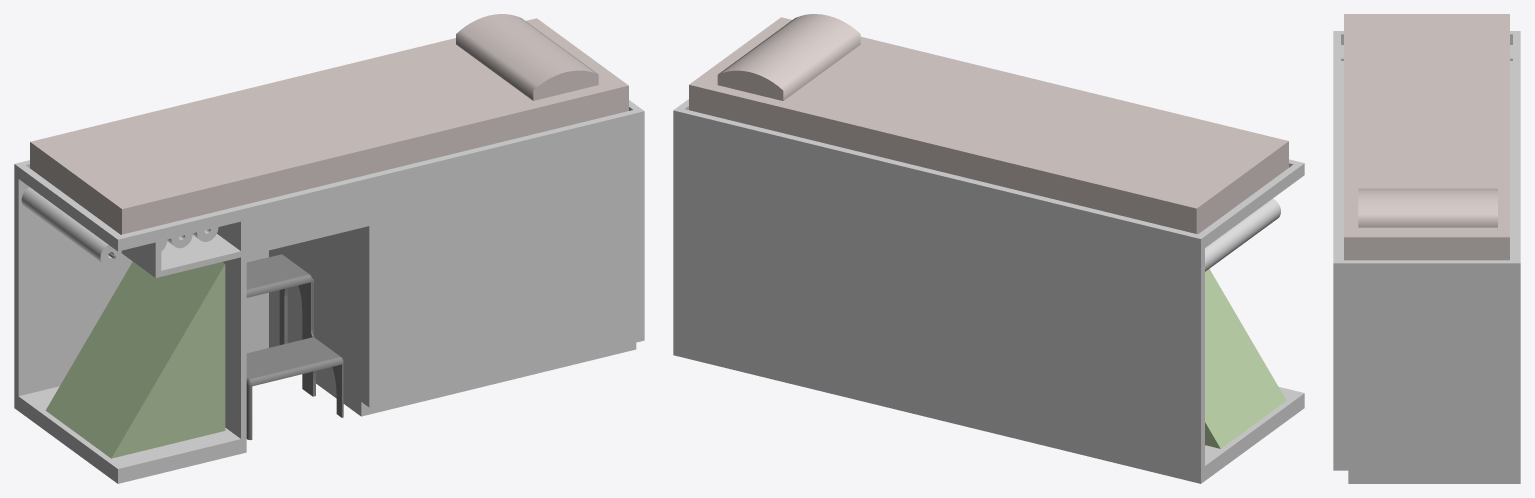
Rendered from Bed.fbx.
The picture shows the model from 3 angles, left to right: view 1: azimuth 30°, elevation 25°; view 2: azimuth 150°, elevation 25°; view 3: azimuth 270°, elevation 25°; orthographic projection. The views are drawn at different scales.
Visible parts, largest first — view 1: Group_004, Group_006, Group_003, Escada de plastico_001, Group_007, Group#12_005; view 2: Group_004, Group_006, Group_003, Group_007, Group#12_005; view 3: Group_004, Group_006, Group_007.
Boxes of the visible parts, box(x1,y1,x2,y2) form: Group_004: box(14, 100, 644, 483); Group_006: box(30, 18, 628, 234); Group_003: box(45, 261, 225, 458); Escada de plastico_001: box(246, 254, 343, 440); Group_007: box(456, 14, 598, 100); Group#12_005: box(21, 187, 121, 266); Group_004: box(673, 99, 1304, 483); Group_006: box(689, 17, 1288, 234); Group_003: box(1205, 269, 1286, 448); Group_007: box(717, 14, 860, 100); Group#12_005: box(1205, 198, 1280, 271); Group_004: box(1333, 31, 1520, 483); Group_006: box(1344, 14, 1509, 260); Group_007: box(1358, 188, 1497, 227).
Size of the model in its own units: 1.85 by 0.97 by 0.63.
